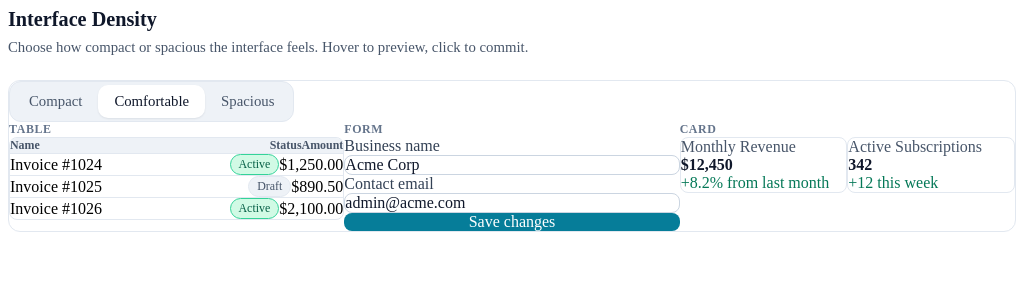
Test case: DensityPreview › announces density changes via aria-live region
Click the radio button labelled "Compact".
click(56, 102)  # box [13, 85, 98, 118]
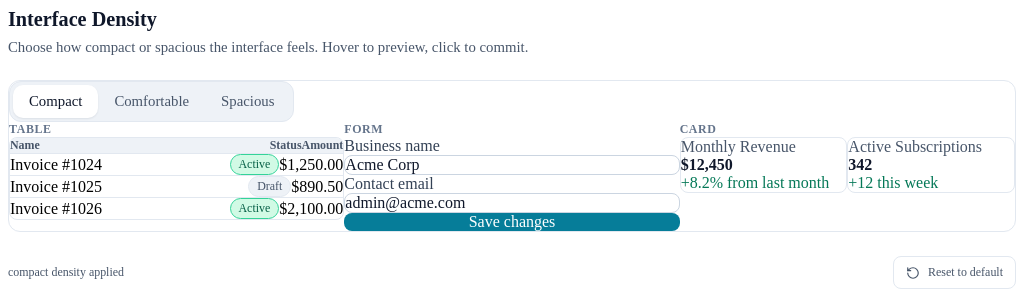
Expected: the text "compact density applied" is shown, [8, 265, 124, 280]
